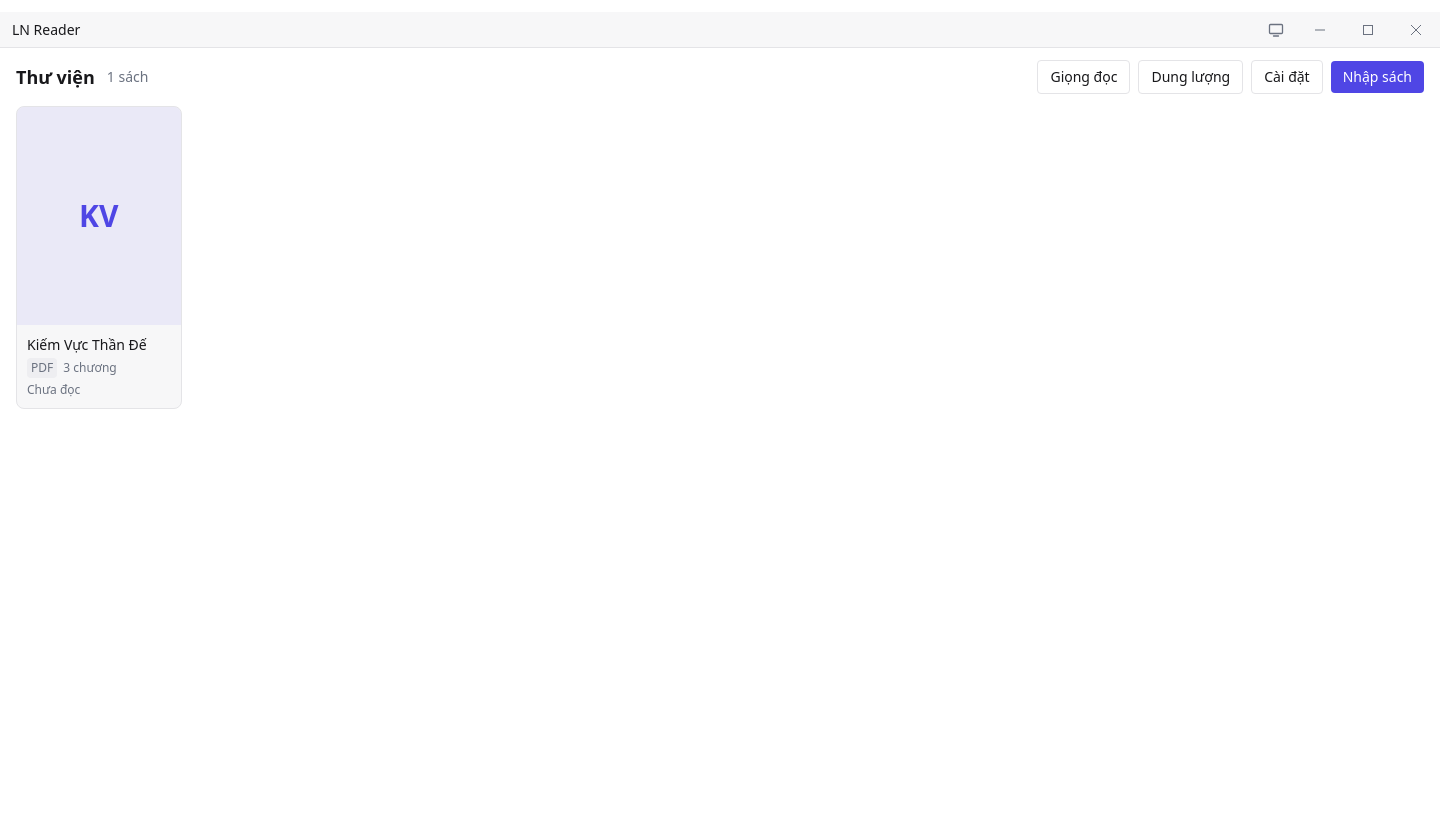
Scenario: App › mở sách chuyển sang màn chi tiết
expect the text "Kiếm Vực Thần Đế" is shown: met, box [27,335,147,354]
Click the button with aria-label "Mở Kiếm Vực Thần Đế": (99, 258) [17,107,180,408]
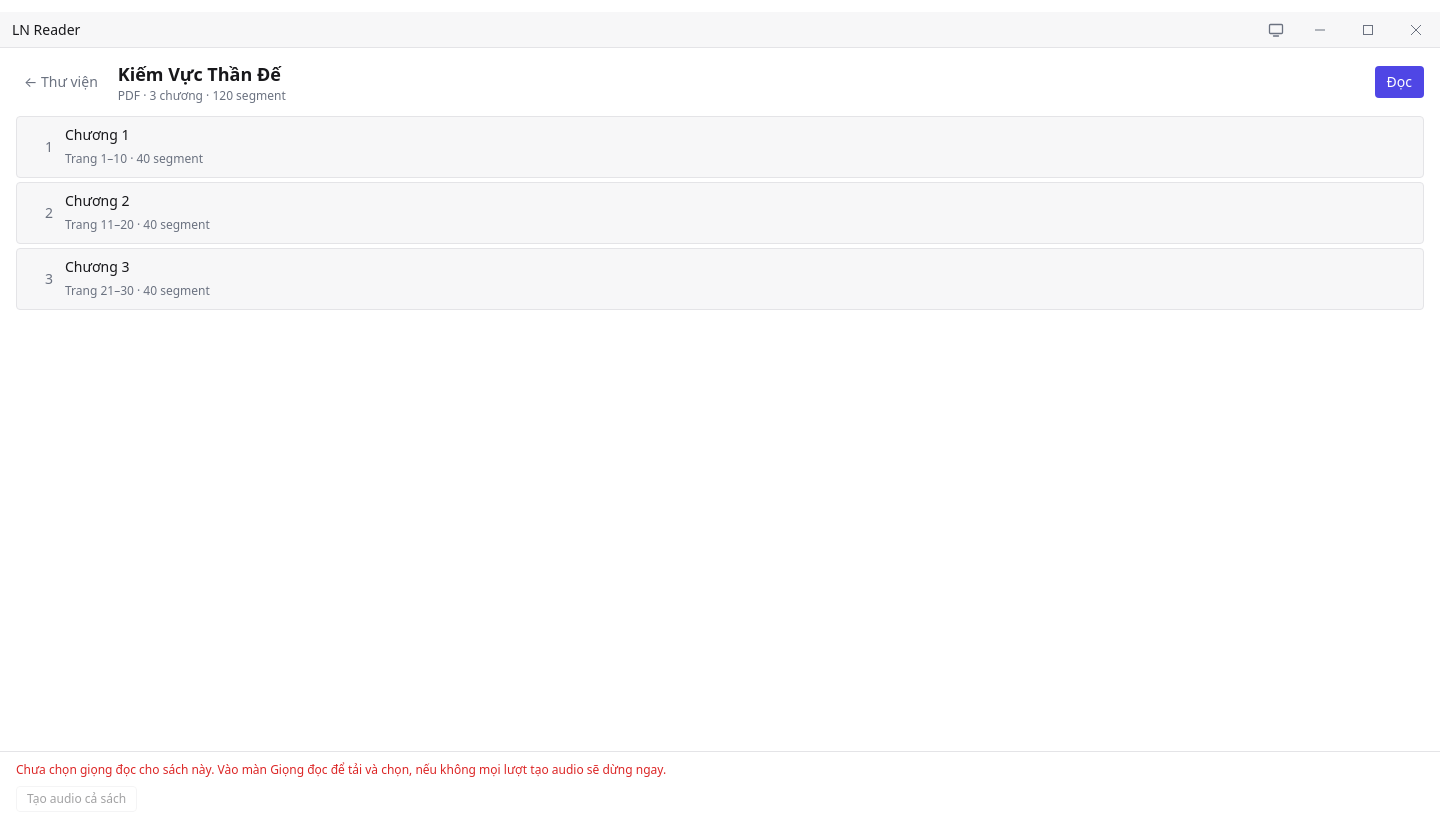
expect the list item with test id "chapter-item" that starts with "Chương 1" is shown: met, box [16,116,1424,178]
